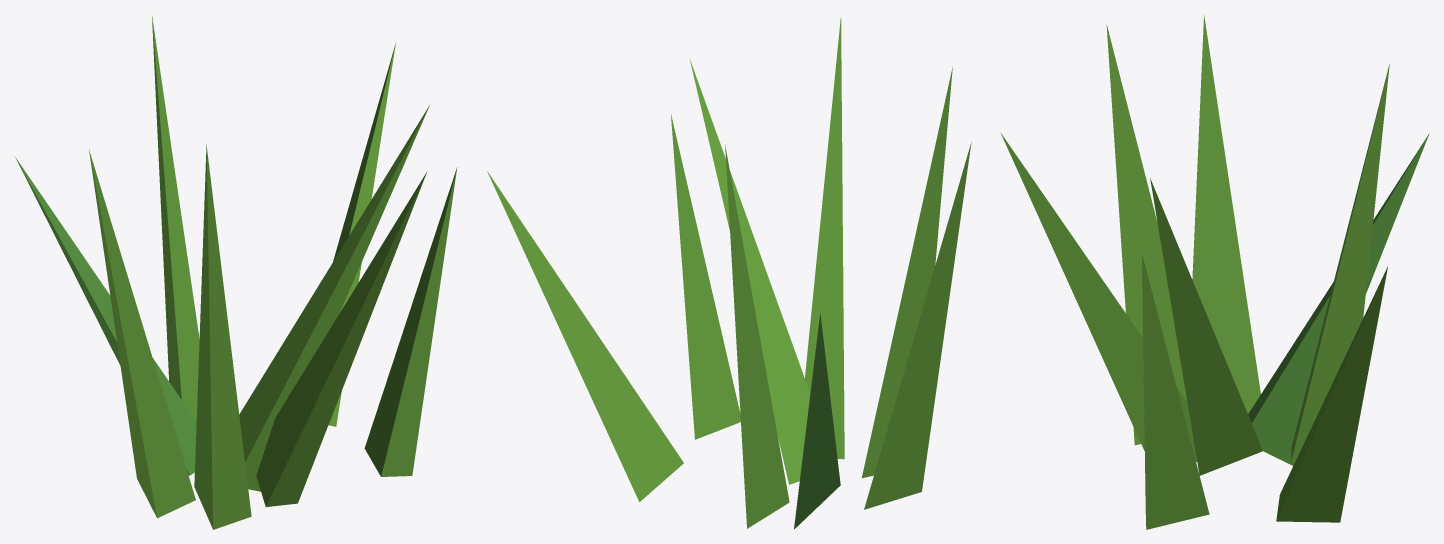
The model's file is HS_LP_Grass_03.fbx.
3 renders of one model, left to right at view 1: azimuth 30°, elevation 25°; view 2: azimuth 150°, elevation 25°; view 3: azimuth 270°, elevation 25°, orthographic.
Visible parts, largest first — view 1: HS_LP_Grass_03; view 2: HS_LP_Grass_03; view 3: HS_LP_Grass_03.
Boxes of the visible parts, box(x1,y1,x2,y2) form: HS_LP_Grass_03: box(15, 16, 457, 529); HS_LP_Grass_03: box(487, 17, 971, 529); HS_LP_Grass_03: box(1001, 15, 1429, 529).
Bounding box in the file's own units: 26.9 × 27.05 × 25.27.
